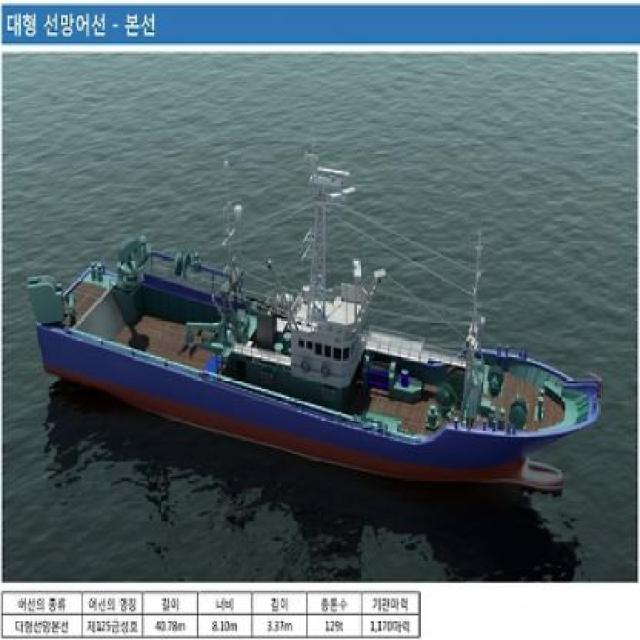fish-b: (19, 142, 612, 497)
